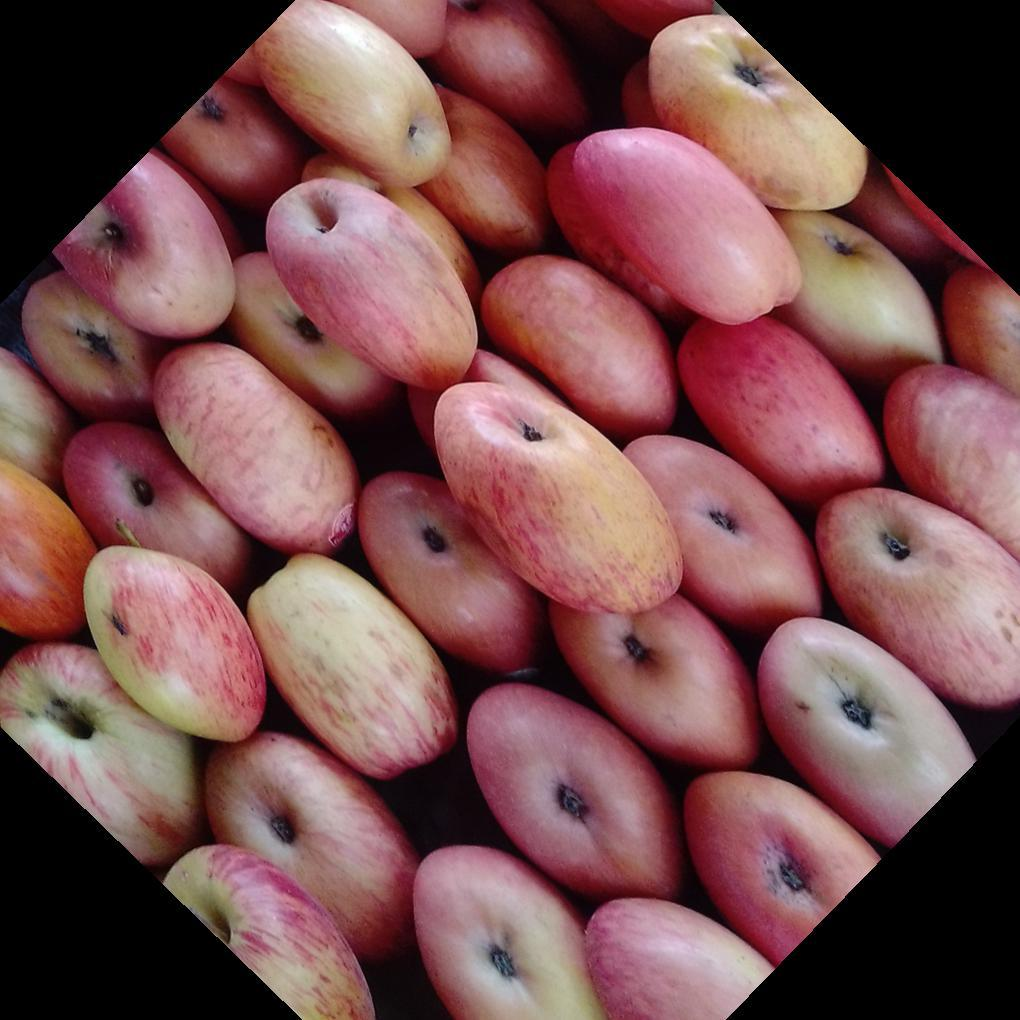FreshGuava: (24, 0, 901, 930)
